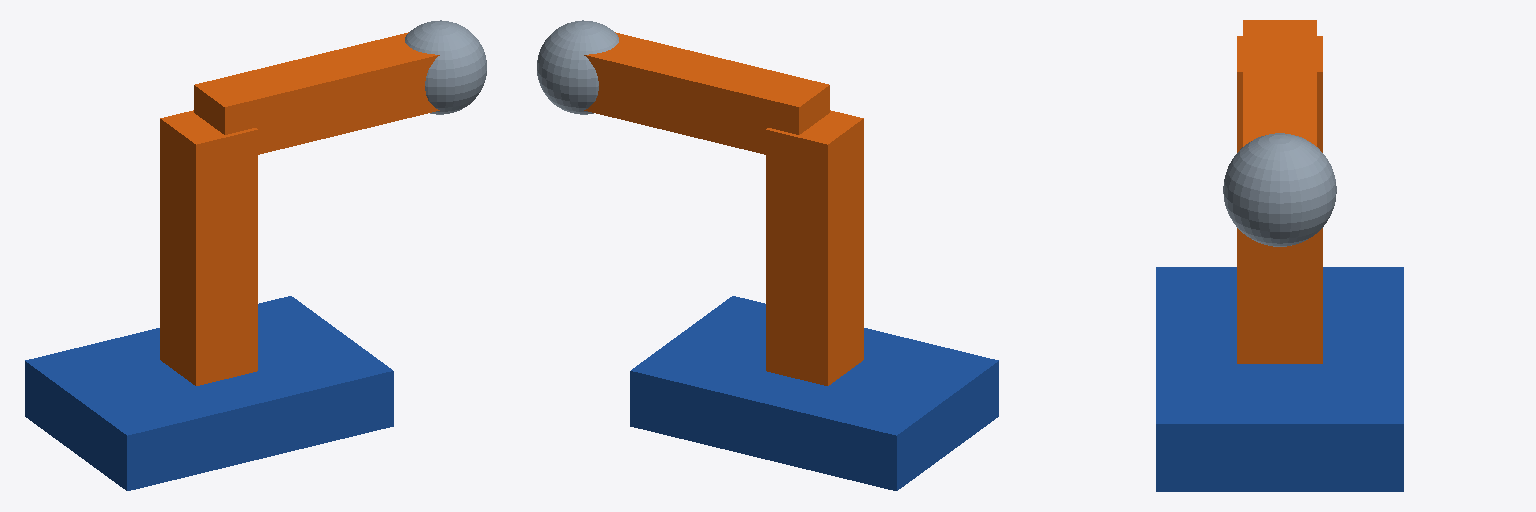
robot.urdf — Workshop arm:
<?xml version="1.0"?>
<robot name="Workshop arm">
  <material name="base-blue"><color rgba="0.18 0.4 0.7 1"/></material>
  <material name="arm-orange"><color rgba="0.9 0.45 0.12 1"/></material>
  <material name="tool-grey"><color rgba="0.6 0.65 0.7 1"/></material>
  <link name="Base">
    <visual name="Pedestal"><geometry><box size="1.5 1.0 0.3"/></geometry><material name="base-blue"/></visual>
  </link>
  <link name="Shoulder">
    <visual name="Upright"><origin xyz="0 0 0.65"/><geometry><box size="0.35 0.35 1.3"/></geometry><material name="arm-orange"/></visual>
  </link>
  <link name="Forearm">
    <visual name="Beam"><origin xyz="0.65 0 0"/><geometry><box size="1.3 0.3 0.3"/></geometry><material name="arm-orange"/></visual>
  </link>
  <link name="Tool">
    <visual name="Gripper"><geometry><sphere radius="0.23"/></geometry><material name="tool-grey"/></visual>
  </link>
  <joint name="Base joint" type="revolute"><parent link="Base"/><child link="Shoulder"/><origin xyz="0 0 0.15"/><axis xyz="0 0 1"/><limit lower="-3.14" upper="3.14" effort="10" velocity="1"/></joint>
  <joint name="Elbow joint" type="revolute"><parent link="Shoulder"/><child link="Forearm"/><origin xyz="0 0 1.3"/><axis xyz="0 1 0"/><limit lower="-1.57" upper="1.57" effort="10" velocity="1"/></joint>
  <joint name="Tool mount" type="fixed"><parent link="Forearm"/><child link="Tool"/><origin xyz="1.3 0 0"/></joint>
</robot>

--- Render facts (derived) ---
Views: 3 orthographic renders of the robot side by side, from view 1: azimuth 30°, elevation 25°; view 2: azimuth 150°, elevation 25°; view 3: azimuth 270°, elevation 25°.
Model Workshop arm with 4 links and 3 joints (2 revolute, 1 fixed), rooted at Base, posed all joints at 0.
Links seen in each view (by area): view 1: Base, Shoulder, Forearm, Tool; view 2: Base, Shoulder, Forearm, Tool; view 3: Base, Shoulder, Tool, Forearm.
Link boxes in pixels (x1=…): Base: x1=25, y1=296, x2=393, y2=490; Shoulder: x1=160, y1=110, x2=257, y2=385; Forearm: x1=194, y1=32, x2=439, y2=154; Tool: x1=405, y1=20, x2=486, y2=114; Base: x1=630, y1=296, x2=998, y2=490; Shoulder: x1=766, y1=110, x2=863, y2=385; Forearm: x1=584, y1=32, x2=829, y2=154; Tool: x1=537, y1=20, x2=618, y2=114; Base: x1=1156, y1=267, x2=1403, y2=491; Shoulder: x1=1237, y1=36, x2=1322, y2=363; Tool: x1=1223, y1=133, x2=1336, y2=246; Forearm: x1=1243, y1=20, x2=1316, y2=146.
Bounding box of the posed robot: 2.28 × 1 × 1.83 m (x, y, z).
Geometry: primitives only (box / cylinder / sphere), no mesh files.
